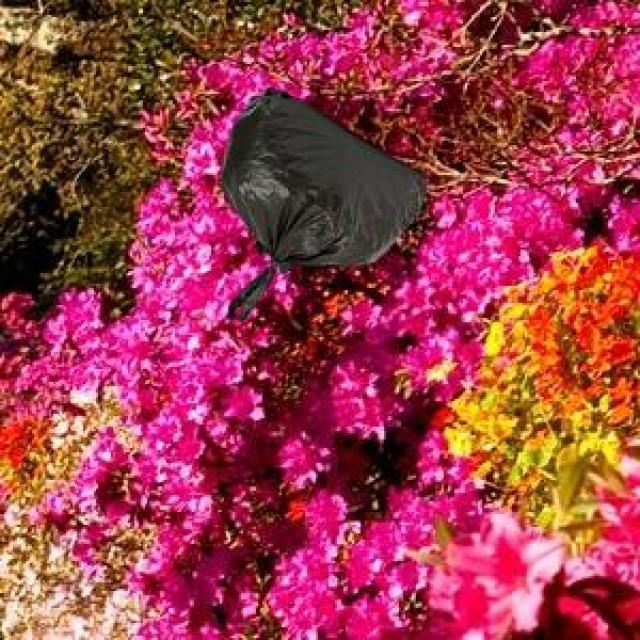garbage_bag: (213, 83, 429, 320)
